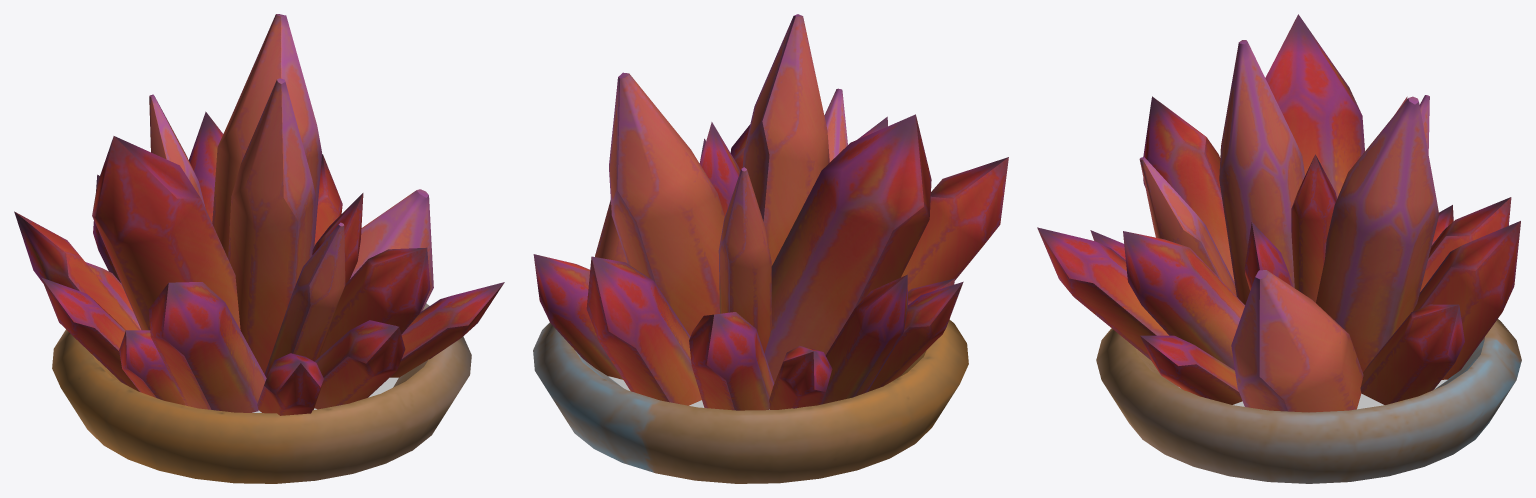
Rendered from SM_Potion_Props_Loot_Gem_02_C.fbx.
The picture shows the model from 3 angles, left to right: view 1: azimuth 30°, elevation 25°; view 2: azimuth 150°, elevation 25°; view 3: azimuth 270°, elevation 25°; orthographic projection. The views are drawn at different scales.
Parts seen in each view (by area): view 1: SM_Potion_Props_Loot_Gem_02_C_LOD0; view 2: SM_Potion_Props_Loot_Gem_02_C_LOD0; view 3: SM_Potion_Props_Loot_Gem_02_C_LOD0.
Boxes of the visible parts, x1,y1,x2,y2 form: SM_Potion_Props_Loot_Gem_02_C_LOD0: [14, 14, 504, 483]; SM_Potion_Props_Loot_Gem_02_C_LOD0: [533, 14, 1008, 483]; SM_Potion_Props_Loot_Gem_02_C_LOD0: [1037, 14, 1521, 483].
Size of what is drawn, in the model's own units: 22.4 by 19.39 by 23.53.
